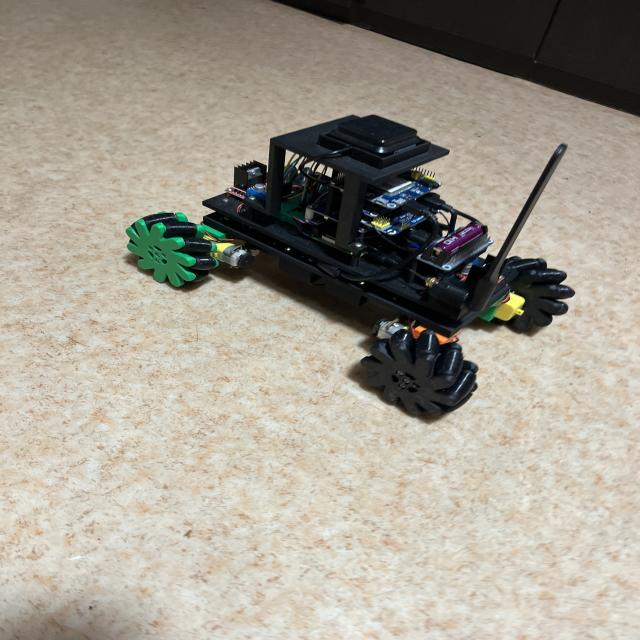robot: (126, 115, 575, 416)
